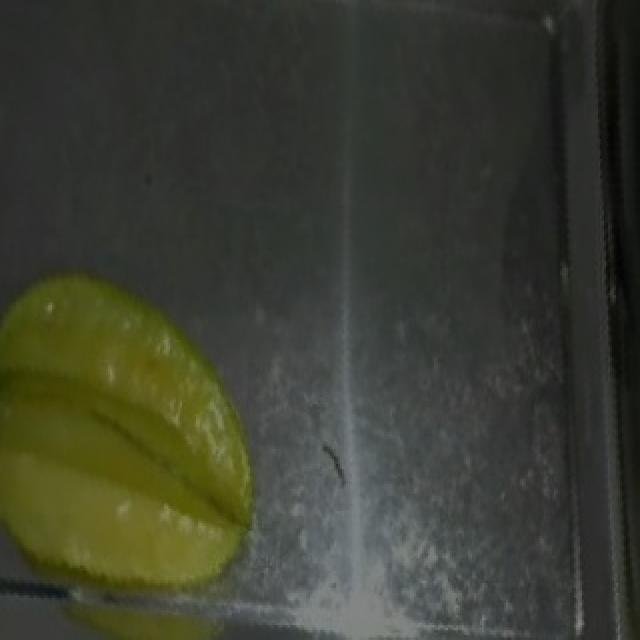fruit: (0, 245, 294, 640)
